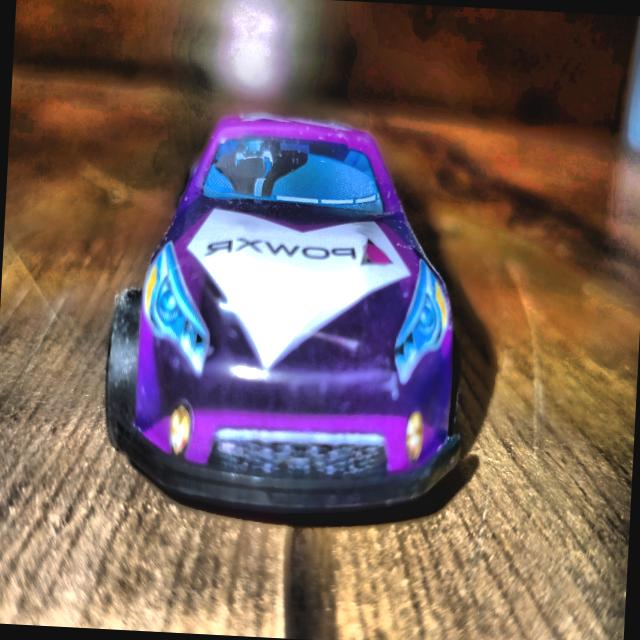Car: (82, 102, 486, 538)
